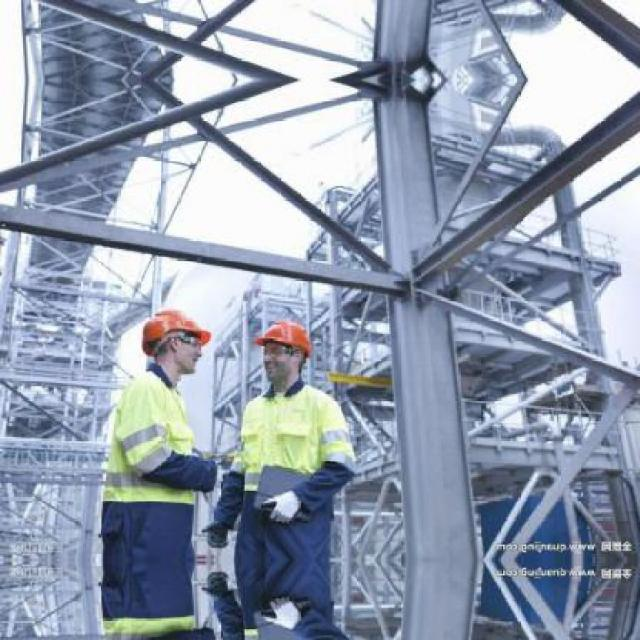Reflective-Jacket: (223, 382, 362, 523), (91, 368, 206, 523)
Safety-Helmet: (132, 302, 218, 358), (249, 311, 325, 366)
